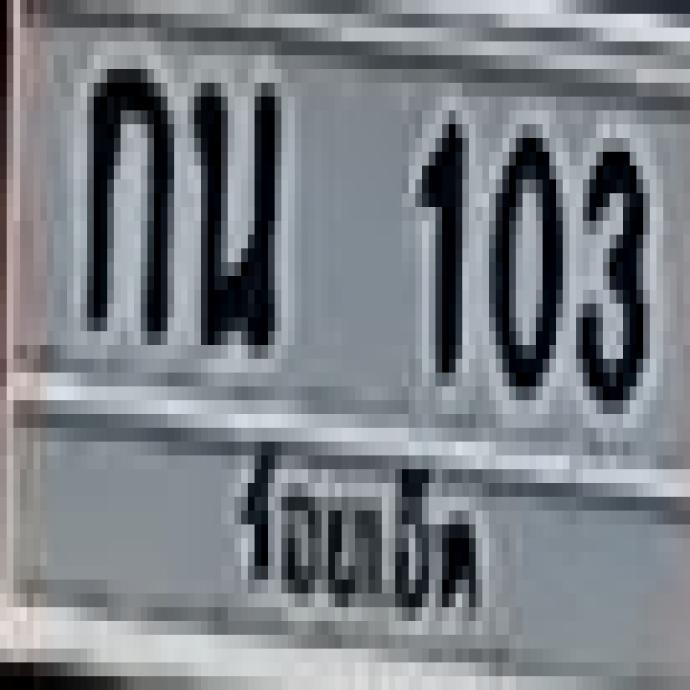0: (486, 119, 556, 387)
1: (414, 107, 458, 368)
3: (572, 131, 641, 401)
A01: (81, 56, 166, 325)
A25: (187, 68, 276, 345)
RET: (222, 426, 493, 633)
